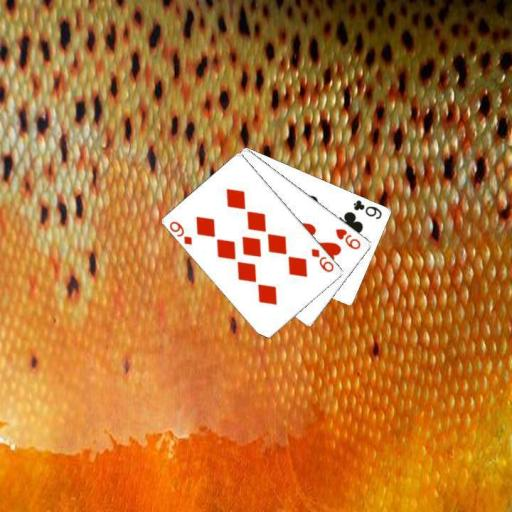card-corner: (308, 245, 336, 274), (332, 225, 362, 251), (351, 196, 383, 220), (167, 218, 194, 246)
